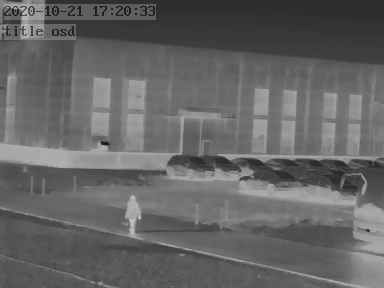person: (123, 192, 142, 236)
vehicle: (237, 169, 303, 191), (304, 172, 356, 199), (164, 153, 213, 179), (204, 153, 243, 177), (233, 154, 270, 171), (345, 156, 379, 172), (261, 155, 296, 170), (296, 155, 326, 169), (317, 157, 347, 171)
